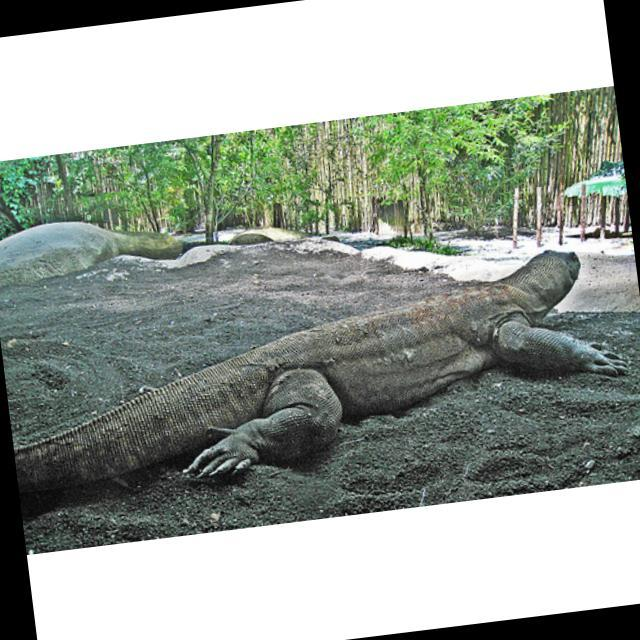KomodoDragon: (3, 238, 638, 507)
